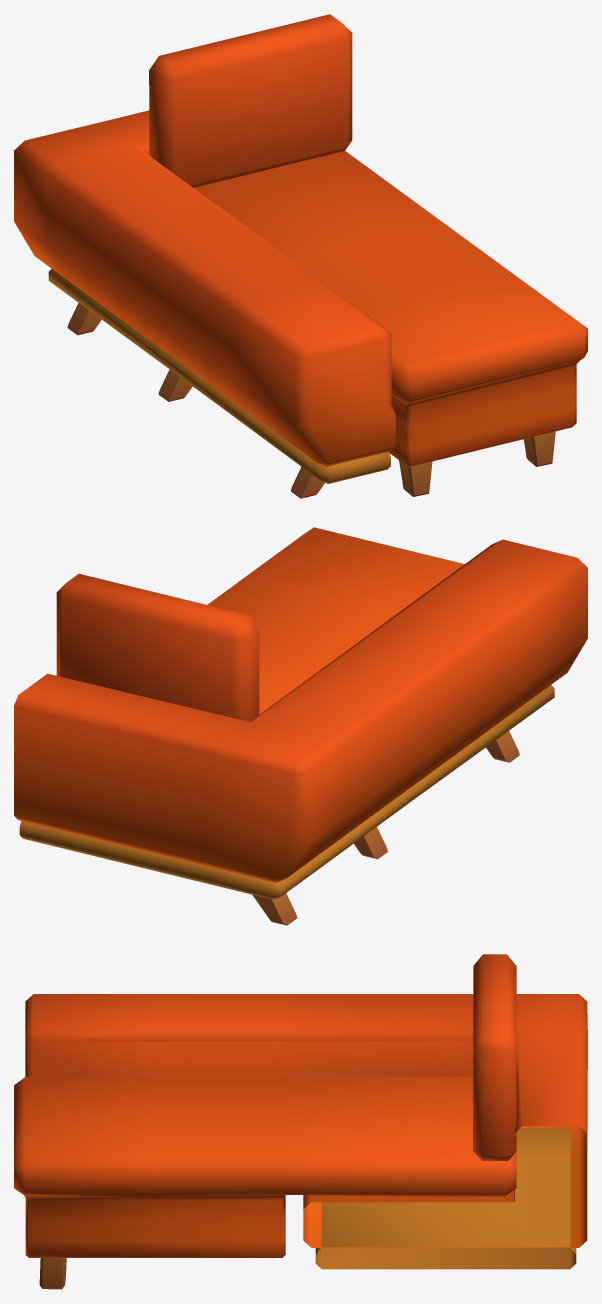
Rendered from Sofa_R_Long.fbx.
3 views of the same model, one above another, from view 1: azimuth 30°, elevation 25°; view 2: azimuth 150°, elevation 25°; view 3: azimuth 270°, elevation 25° (orthographic). The views are drawn at different scales.
Parts seen in each view (by area): view 1: LargestSofa._R_LongEnd; view 2: LargestSofa._R_LongEnd; view 3: LargestSofa._R_LongEnd.
Boxes of the visible parts, left/top/right/bottom form: LargestSofa._R_LongEnd: left=14, top=14, right=587, bottom=498; LargestSofa._R_LongEnd: left=14, top=527, right=587, bottom=925; LargestSofa._R_LongEnd: left=14, top=954, right=587, bottom=1289.
Bounding box in the file's own units: 4.5 × 4 × 7.96.
